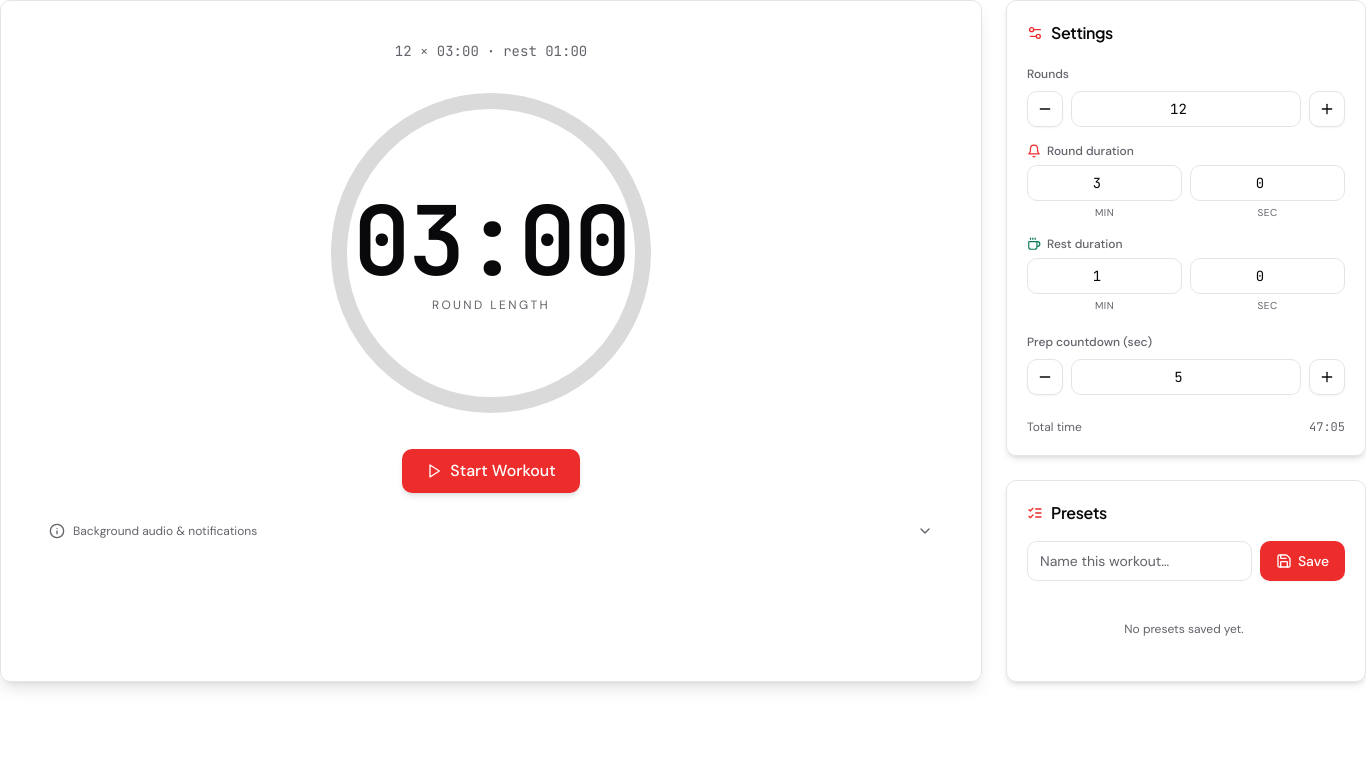
Test: the work and rest phases are distinguished by a filled colour › paints the work phase with the paired --work tokens
Step 1. Replace the text in the number field named "Rounds" with "2" → (1186, 109), box [1071,91,1301,127]
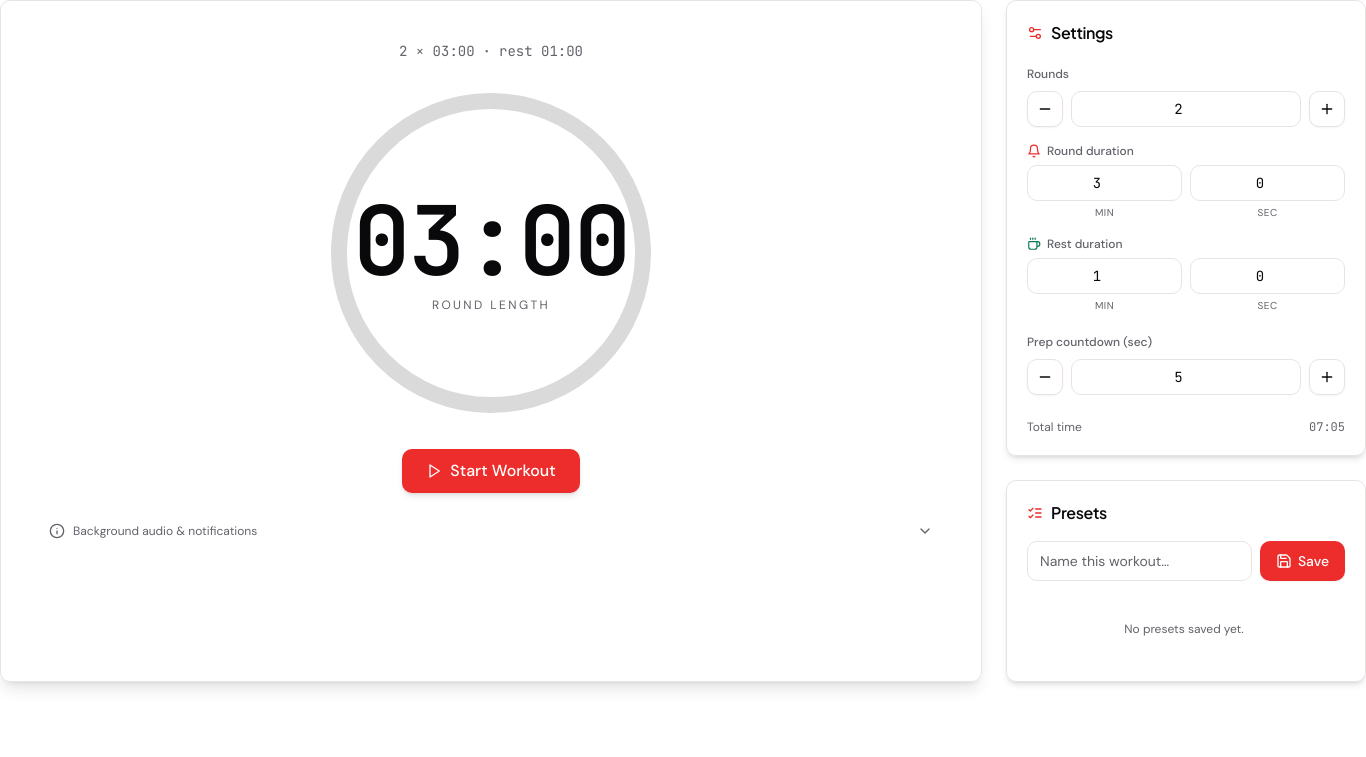
Step 2. Replace the text in the number field named "Round duration minutes" with "0" → (1104, 183), box [1027,165,1182,201]
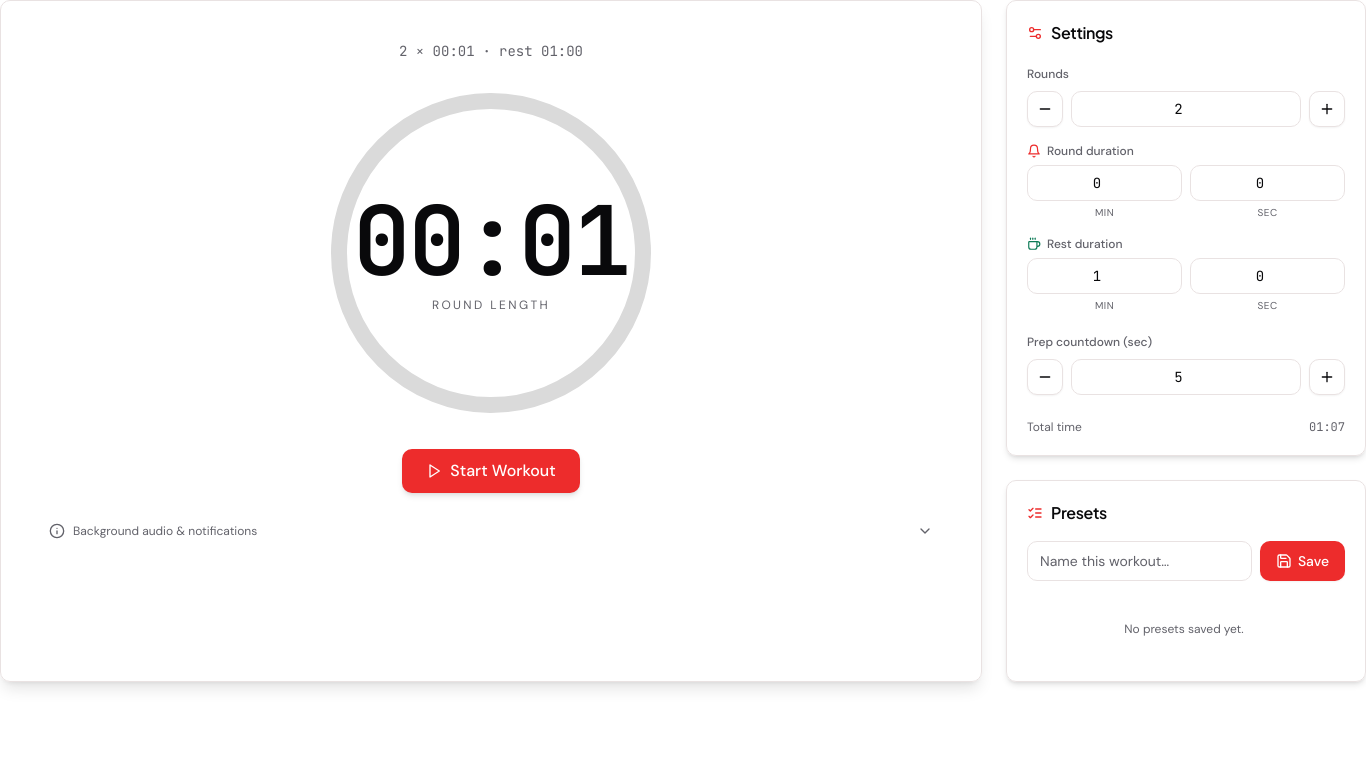
Step 3. Replace the text in the number field named "Round duration seconds" with "2" → (1268, 183), box [1190,165,1345,201]
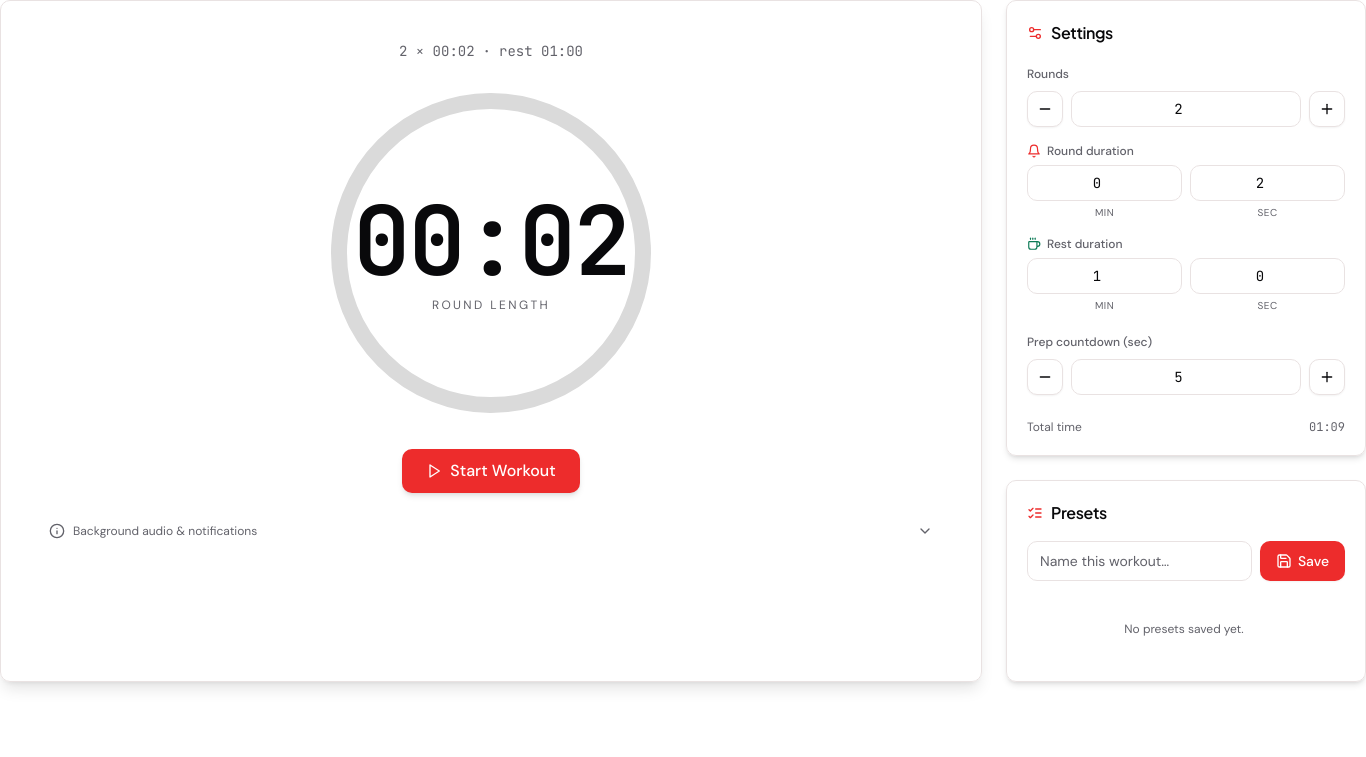
Step 4. Replace the text in the number field named "Prep countdown (sec)" with "0" → (1186, 377), box [1071,359,1301,395]
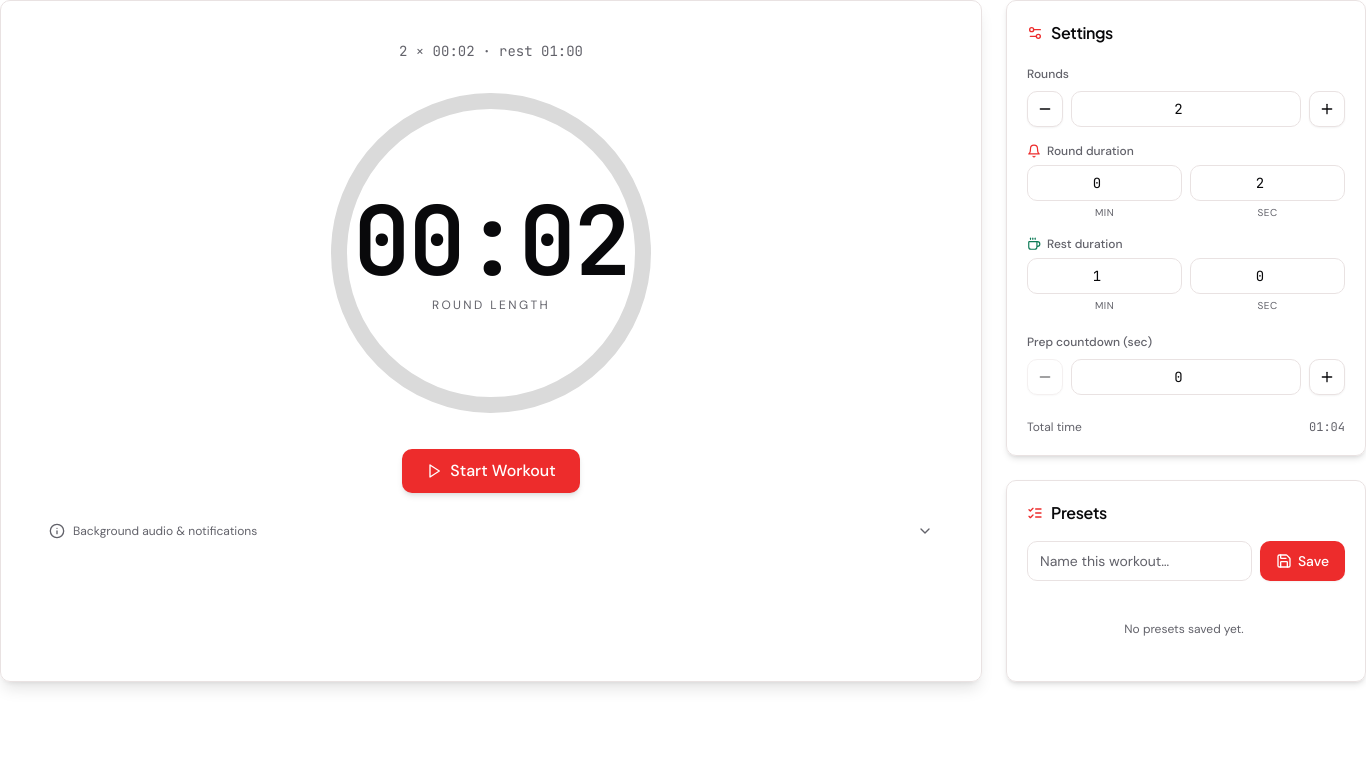
Step 5. Click the button "Start Workout" → (491, 471), box [402,449,580,493]
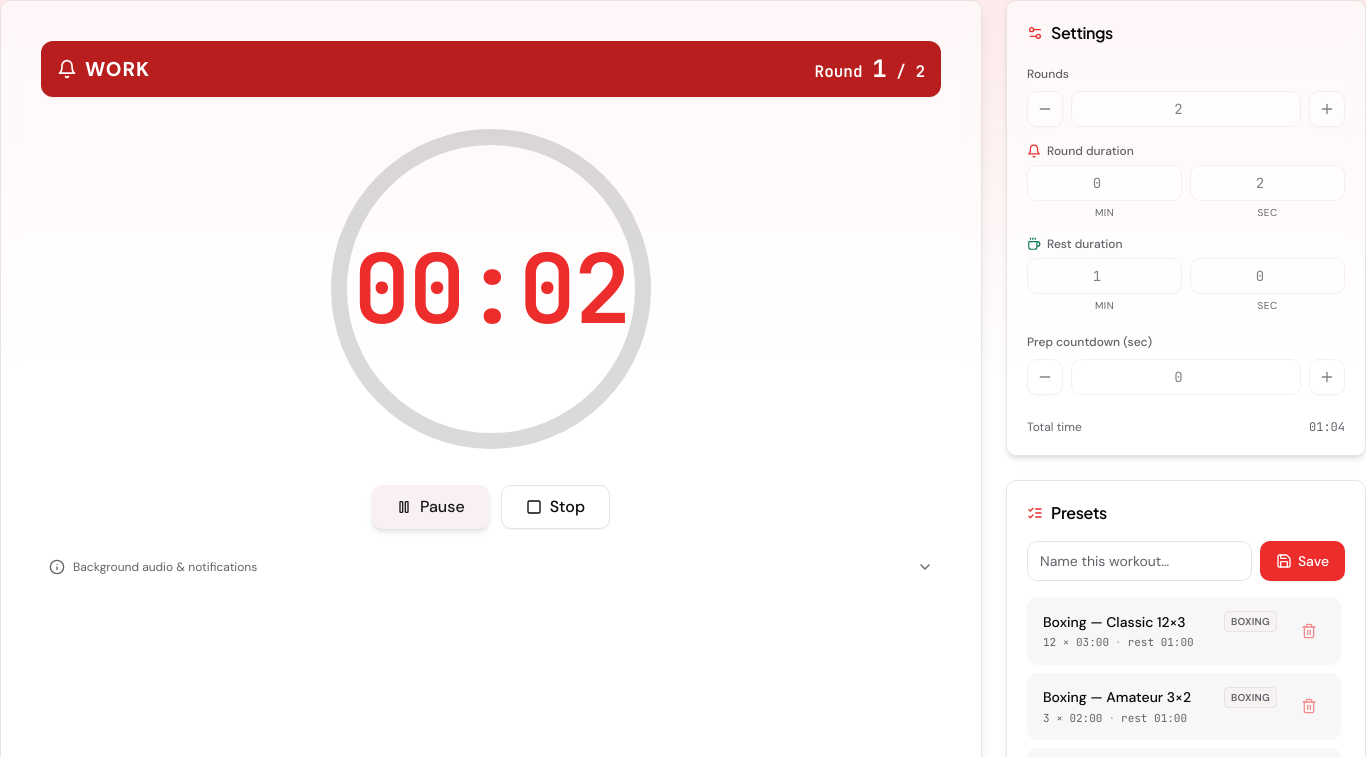
expect the text "Work" is shown: met, box [57,55,150,83]
